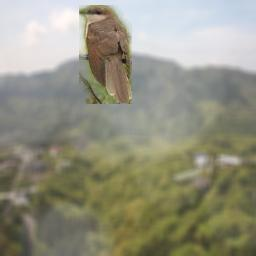Cuckoo: (79, 5, 132, 104)
